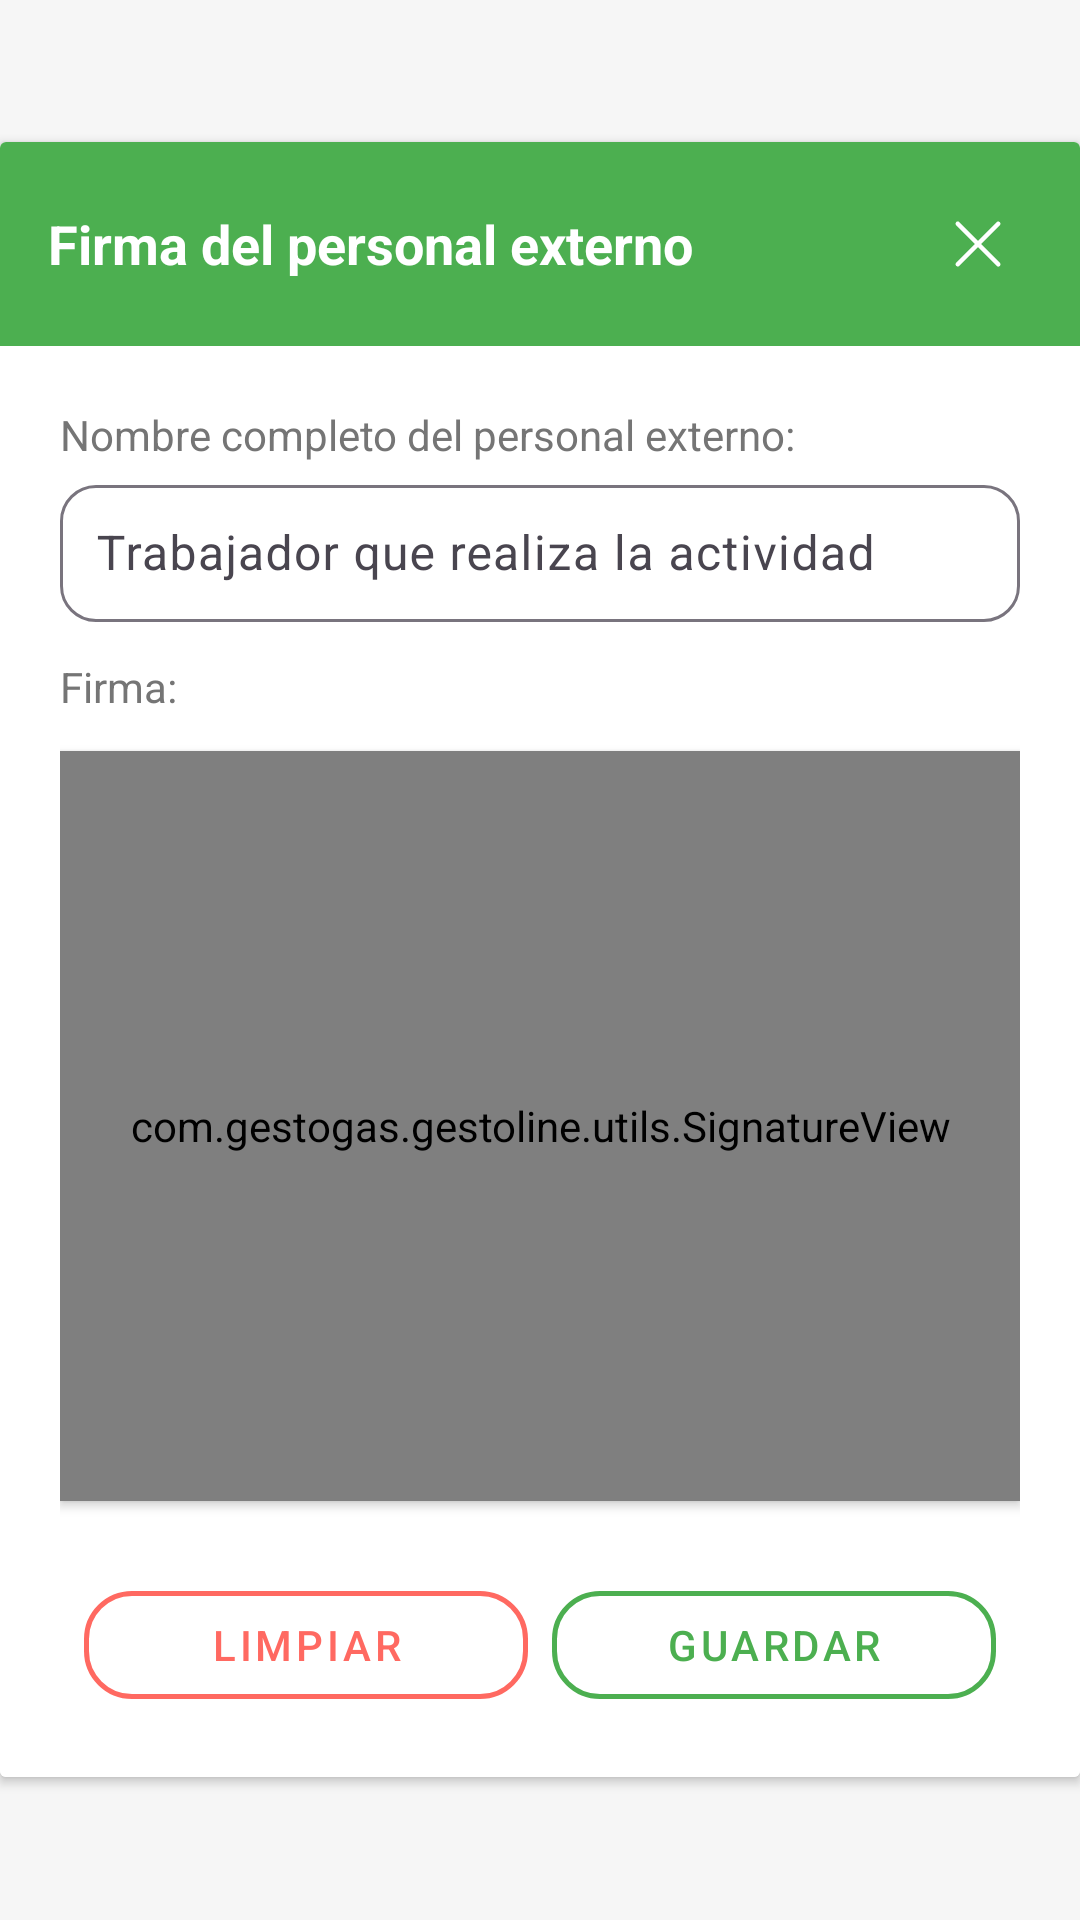

Point at icon controls on the screen. Image size 1080px x 1920px, points as point (x, y).
Cerrar: point (978, 244)
